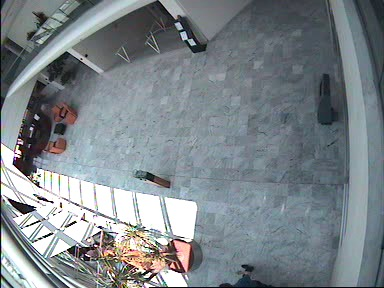person: (219, 263, 273, 286)
